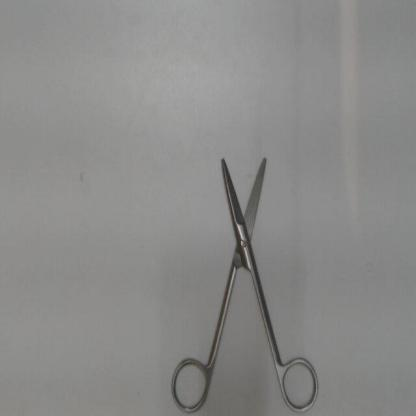Curved Mayo Scissors: (166, 146, 322, 414)
